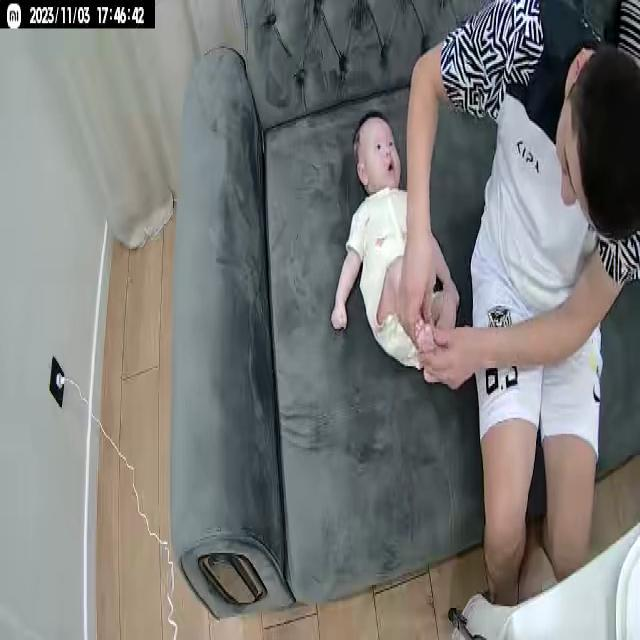baby: (328, 104, 462, 385)
